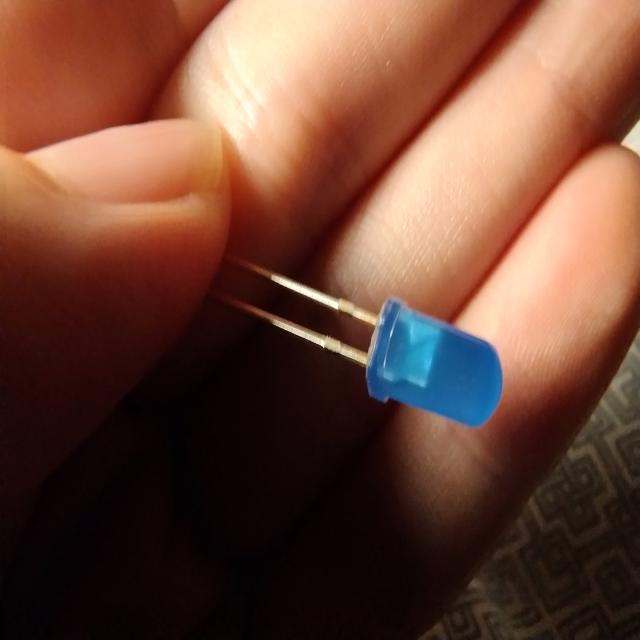blue_led: (364, 295, 504, 429)
